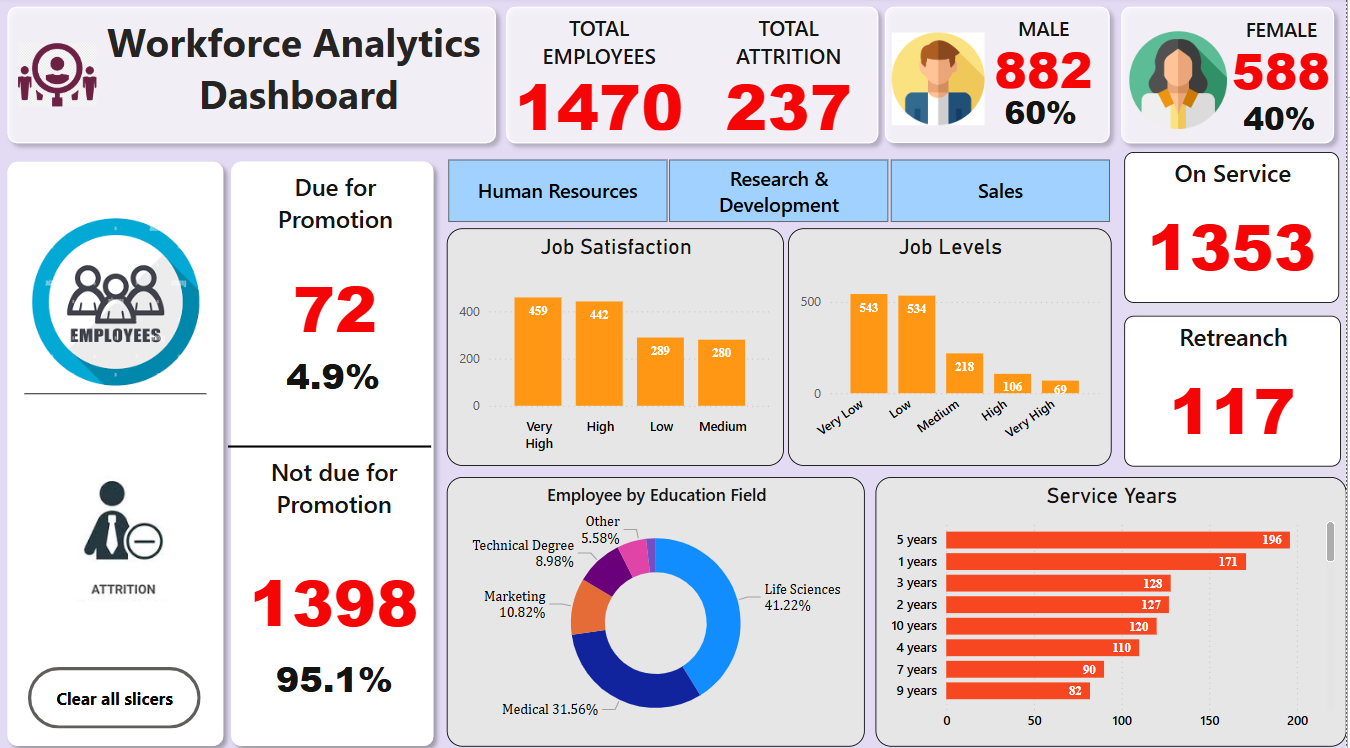

The page's visual inventory and layout, read from the dashboard file:
{"tool":"powerbi","page":{"name":"HOME","canvas":[1280,720],"ordinal":3},"visuals":[{"type":"shape","box":[0,147.1,222.9,572.9],"z":0},{"type":"shape","box":[0,0,481.4,147.7],"z":1000},{"type":"shape","box":[473.3,0,370.9,147.7],"z":2000},{"type":"shape","box":[1057,0,219.8,147.7],"z":3000},{"type":"shape","box":[832.6,0,231.4,147.7],"z":4000},{"type":"textbox","box":[98.6,11.4,374.3,124.3],"z":5000},{"type":"card","title":"TOTAL EMPLOYEES","fields":{"Values":["HR_Measures.Total_Employees"]},"box":[481.4,15.1,177.9,116.3],"z":6000},{"type":"card","title":"MALE","fields":{"Values":["HR_Measures.Male"]},"box":[934.9,16.3,115.1,75.6],"z":7000},{"type":"card","fields":{"Values":["HR_Measures.%Male"]},"box":[947.7,86,83.7,46.5],"z":8000},{"type":"card","title":"FEMALE","fields":{"Values":["HR_Measures.Female"]},"box":[1166.3,17.4,103.5,75.6],"z":9000},{"type":"card","fields":{"Values":["HR_Measures.%Female"]},"box":[1169.7,95.3,93,40.7],"z":10000},{"type":"actionButton","box":[28.6,635.7,164.3,58.6],"z":11000},{"type":"image","box":[844,22.1,97.7,110.5],"z":12000},{"type":"image","box":[1068.6,24.3,102.9,110],"z":13000},{"type":"image","box":[14.3,11.4,84.3,124.3],"z":14000},{"type":"columnChart","title":"Job Satisfaction","fields":{"Category":["Job_Information.cf_Job Satisfaction"],"Y":["HR_Measures.Total_Employees"]},"box":[425.7,220,320,225.7],"z":15000},{"type":"card","title":"TOTAL ATTRITION","fields":{"Values":["HR_Measures.Attrition_Count"]},"box":[667.4,15.1,165.1,116.3],"z":16000},{"type":"shape","box":[212.9,147.1,210,572.9],"z":17000},{"type":"card","title":"Due for Promotion","fields":{"Values":["HR_Measures.Due for Promotion"]},"box":[222.9,164.3,194.3,195.7],"z":18000},{"type":"card","title":"Not due for Promotion","fields":{"Values":["HR_Measures.Not due for Promotion"]},"box":[221.4,434.3,194.3,212.9],"z":19000},{"type":"shape","box":[218.6,418.6,192.9,15.7],"z":20000},{"type":"card","fields":{"Values":["HR_Measures.% Due for Promotion"]},"box":[232.9,324.3,171.4,71.4],"z":21000},{"type":"card","fields":{"Values":["HR_Measures.% Not due for Promotion"]},"box":[234.3,611.4,171.4,71.4],"z":22000},{"type":"card","title":"Retreanch","fields":{"Values":["HR_Measures.Will be Retreanchment"]},"box":[1068.6,302.9,205.7,142.9],"z":23000},{"type":"card","title":"On Service","fields":{"Values":["HR_Measures.On Service"]},"box":[1068.6,147.1,204.3,142.9],"z":24000},{"type":"columnChart","title":"Job Levels","fields":{"Y":["HR_Measures.Total_Employees"],"Category":["Job_Information.cf_Job Level"]},"box":[750,220,307.1,225.7],"z":25000},{"type":"donutChart","title":"Employee by Education Field","fields":{"Category":["Employee_Details.Education Field"],"Y":["CountNonNull(Employee_Details.Employee Number)"]},"box":[425.7,455.7,397.1,255.7],"z":26000},{"type":"slicer","fields":{"Values":["Job_Information.Department"]},"box":[401.4,147.1,678.6,71.4],"z":27000},{"type":"barChart","title":"Service Years","fields":{"Category":["Job_Information.cf_Service Years at Company"],"Y":["HR_Measures.Total_Employees"]},"box":[832.9,455.7,447.1,255.7],"z":28000},{"type":"image","box":[20,190,182.9,200],"z":29000},{"type":"image","box":[21.4,402.9,180,181.4],"z":30000}]}

Visuals, with their boxes in screenshot pixels (x1, y1, x2, y2), scaled from the page's 1280x720 canvas onto the 1350x748 screenshot:
shape: <bbox>0, 153, 235, 747</bbox>
shape: <bbox>0, 0, 508, 153</bbox>
shape: <bbox>499, 0, 890, 153</bbox>
shape: <bbox>1115, 0, 1347, 153</bbox>
shape: <bbox>878, 0, 1122, 153</bbox>
textbox: <bbox>104, 12, 499, 141</bbox>
"TOTAL EMPLOYEES" card: <bbox>508, 16, 695, 137</bbox>
"MALE" card: <bbox>986, 17, 1107, 95</bbox>
card - HR_Measures.%Male: <bbox>1000, 89, 1088, 138</bbox>
"FEMALE" card: <bbox>1230, 18, 1339, 97</bbox>
card - HR_Measures.%Female: <bbox>1234, 99, 1332, 141</bbox>
actionButton: <bbox>30, 660, 203, 721</bbox>
image: <bbox>890, 23, 993, 138</bbox>
image: <bbox>1127, 25, 1236, 140</bbox>
image: <bbox>15, 12, 104, 141</bbox>
"Job Satisfaction" columnChart: <bbox>449, 229, 786, 463</bbox>
"TOTAL ATTRITION" card: <bbox>704, 16, 878, 137</bbox>
shape: <bbox>225, 153, 446, 747</bbox>
"Due for Promotion" card: <bbox>235, 171, 440, 374</bbox>
"Not due for Promotion" card: <bbox>234, 451, 438, 672</bbox>
shape: <bbox>231, 435, 434, 451</bbox>
card - HR_Measures.% Due for Promotion: <bbox>246, 337, 426, 411</bbox>
card - HR_Measures.% Not due for Promotion: <bbox>247, 635, 428, 709</bbox>
"Retreanch" card: <bbox>1127, 315, 1344, 463</bbox>
"On Service" card: <bbox>1127, 153, 1343, 301</bbox>
"Job Levels" columnChart: <bbox>791, 229, 1115, 463</bbox>
"Employee by Education Field" donutChart: <bbox>449, 473, 868, 739</bbox>
slicer - Job_Information.Department: <bbox>423, 153, 1139, 227</bbox>
"Service Years" barChart: <bbox>878, 473, 1349, 739</bbox>
image: <bbox>21, 197, 214, 405</bbox>
image: <bbox>23, 419, 212, 607</bbox>
